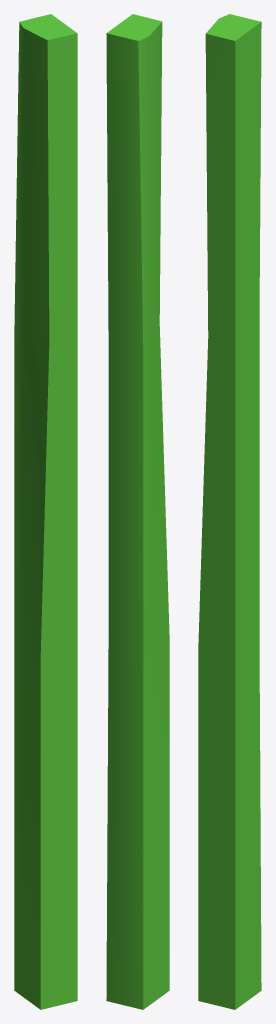
The model's file is Beam_Roof_02.fbx.
3 renders of one model, left to right at view 1: azimuth 30°, elevation 25°; view 2: azimuth 150°, elevation 25°; view 3: azimuth 330°, elevation 25°, orthographic.
Visible parts, largest first — view 1: Beam_Roof_02; view 2: Beam_Roof_02; view 3: Beam_Roof_02.
Part boxes in pixels (box(x1,y1,x2,y2)): Beam_Roof_02: box(14, 14, 77, 1009); Beam_Roof_02: box(106, 14, 169, 1009); Beam_Roof_02: box(198, 14, 261, 1009).
Size of the model in its own units: 13.46 by 338 by 17.75.
